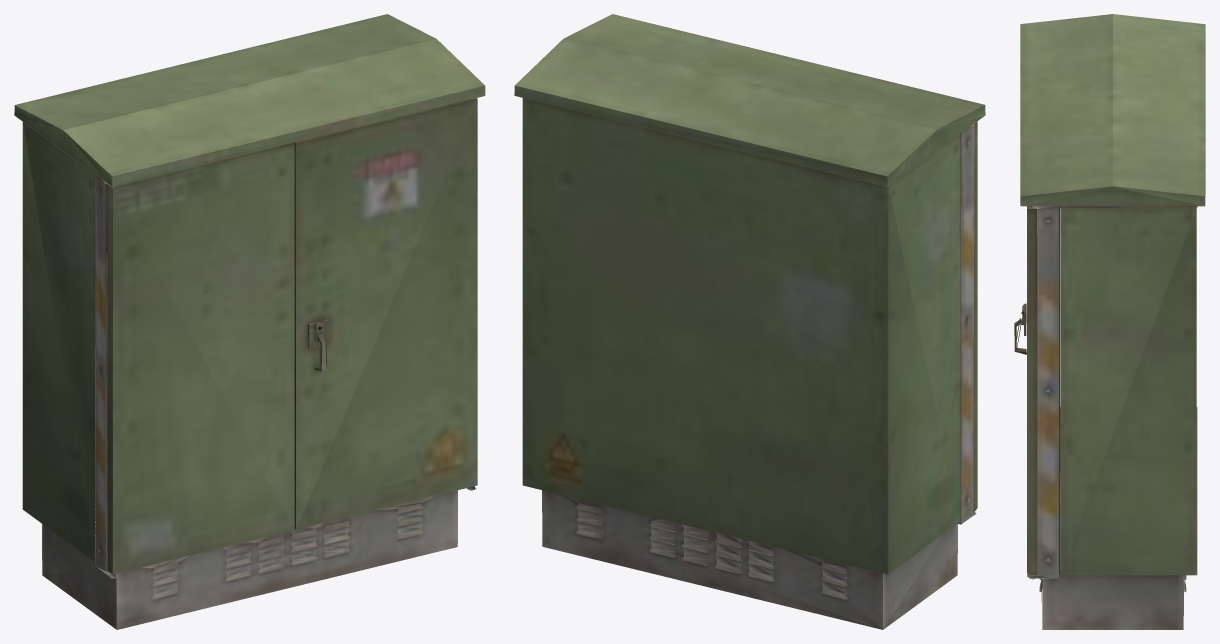
File: utility_box_02.glb
3 views of the same model, side by side, from view 1: azimuth 30°, elevation 25°; view 2: azimuth 150°, elevation 25°; view 3: azimuth 270°, elevation 25° (orthographic). The views are drawn at different scales.
Parts seen in each view (by area): view 1: utility_box_02; view 2: utility_box_02; view 3: utility_box_02.
Boxes of the visible parts, x1=… form: utility_box_02: x1=14, y1=14, x2=485, y2=629; utility_box_02: x1=514, y1=14, x2=985, y2=629; utility_box_02: x1=1014, y1=14, x2=1205, y2=629.
Bounding box in the file's own units: 0.9178 × 1.12 × 0.4298.
1 material, 1 textured.
